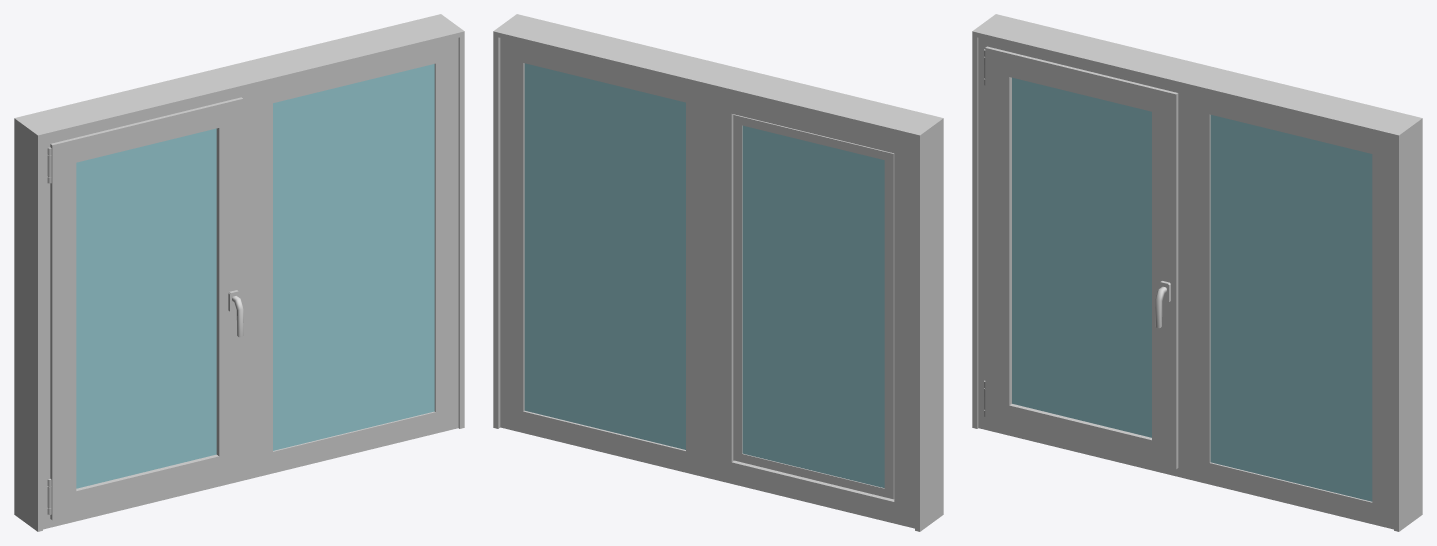
The model's file is Window.glb.
The picture shows the model from 3 angles, left to right: view 1: azimuth 30°, elevation 25°; view 2: azimuth 150°, elevation 25°; view 3: azimuth 330°, elevation 25°; orthographic projection.
Visible parts, largest first — view 1: glass_1, glass_2, window_frame_main, window_frame_sub, window_corner; view 2: glass_1, window_frame_main, glass_2, window_corner, window_frame_sub; view 3: glass_1, glass_2, window_frame_main, window_frame_sub, window_corner.
Boxes of the visible parts, x1,y1,x2,y2 form: glass_1: (273, 64, 434, 450); glass_2: (76, 128, 216, 488); window_frame_main: (43, 37, 458, 529); window_frame_sub: (47, 97, 243, 520); window_corner: (14, 14, 464, 531); glass_1: (524, 63, 685, 449); window_frame_main: (500, 38, 914, 528); glass_2: (742, 125, 884, 487); window_corner: (493, 14, 943, 531); window_frame_sub: (733, 114, 894, 499); glass_1: (1210, 115, 1372, 501); glass_2: (1012, 77, 1151, 437); window_frame_main: (978, 37, 1393, 529); window_frame_sub: (984, 46, 1178, 469); window_corner: (972, 14, 1422, 531).
Bounding box in the file's own units: 15.05 × 13.36 × 2.01.
